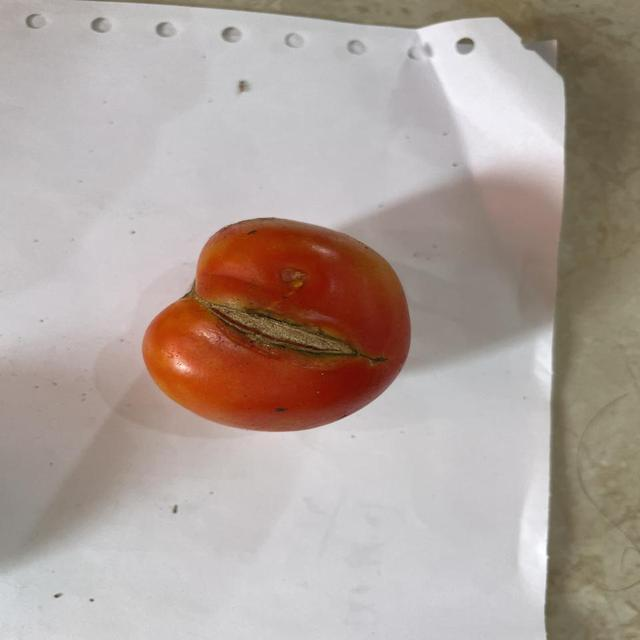Cracking Fruit: (109, 120, 374, 366)
